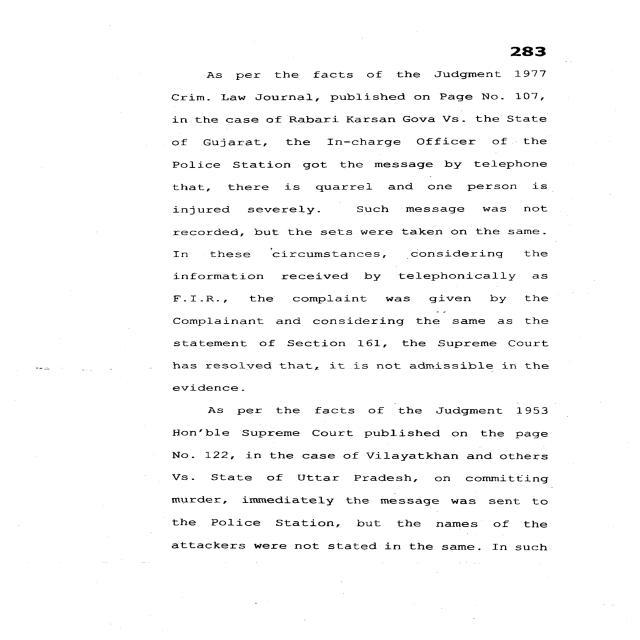page-number: (423, 0, 634, 60)
